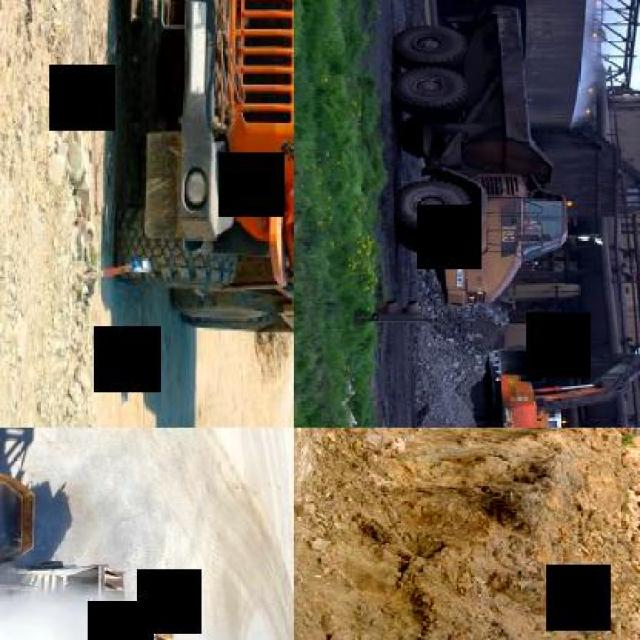buldozerpayloadergrader: (0, 552, 185, 638)
dump_truck: (99, 0, 292, 352)
excavator: (452, 340, 638, 426)
